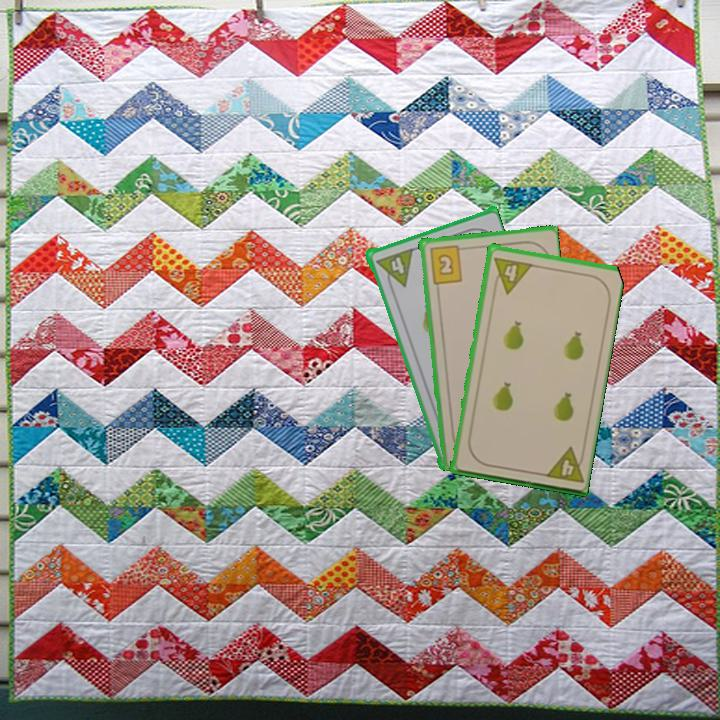2b: (426, 242, 468, 286)
4p: (372, 245, 415, 293), (540, 443, 588, 486), (489, 253, 534, 296)
